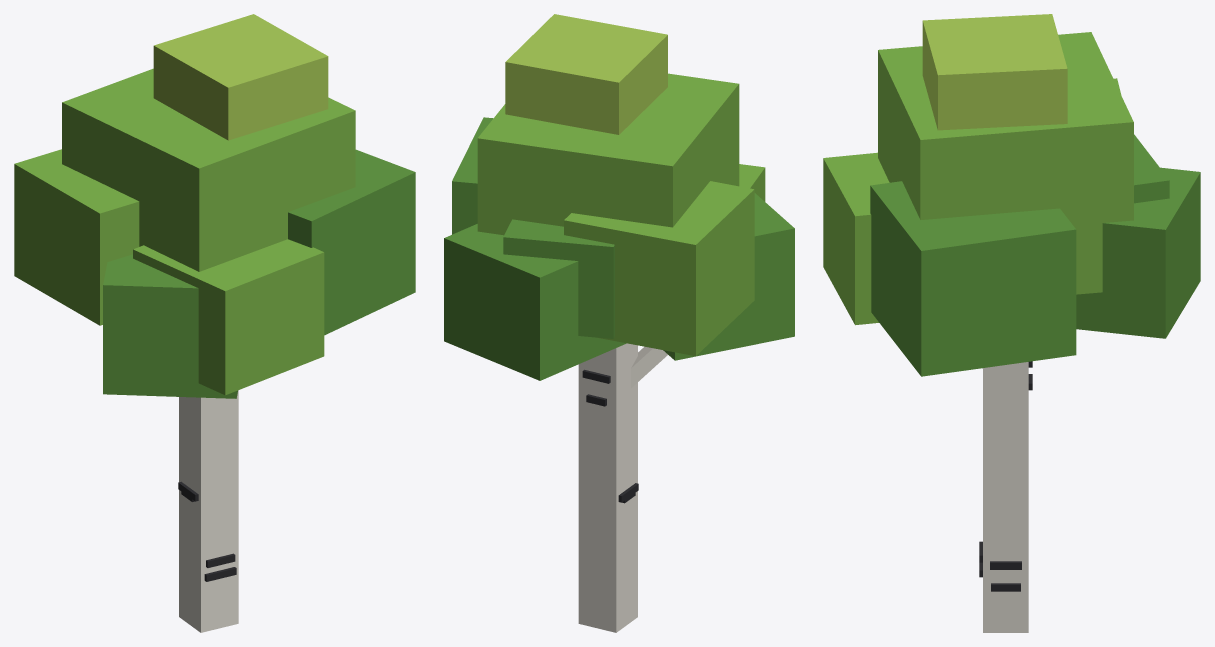
Rendered from A05_birch_small.obj.
3 renders of one model, left to right at view 1: azimuth 30°, elevation 25°; view 2: azimuth 150°, elevation 25°; view 3: azimuth 270°, elevation 25°, orthographic. The views are drawn at different scales.
Parts seen in each view (by area): view 1: A05_birch_small; view 2: A05_birch_small; view 3: A05_birch_small.
Boxes of the visible parts, x1,y1,x2,y2 form: A05_birch_small: [14, 14, 415, 632]; A05_birch_small: [444, 14, 794, 632]; A05_birch_small: [823, 14, 1200, 632].
Bounding box in the file's own units: 3.48 × 6.01 × 3.47.
